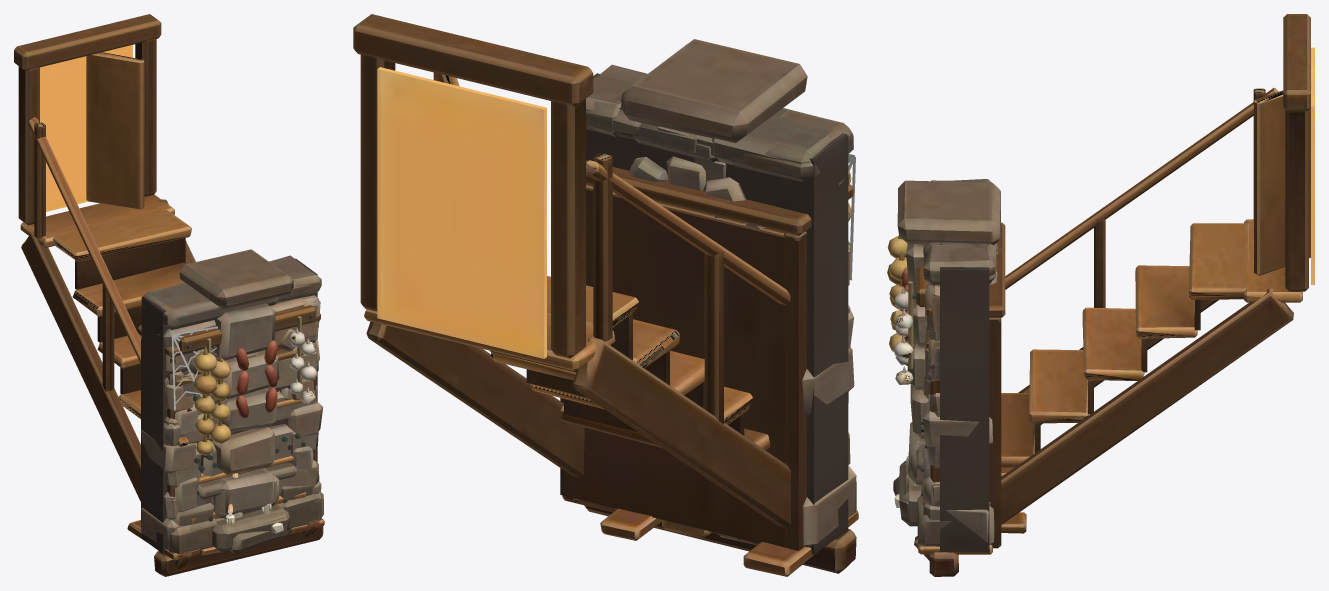
Rendered from env-cellar.low.glb.
3 renders of one model, left to right at view 1: azimuth 30°, elevation 25°; view 2: azimuth 150°, elevation 25°; view 3: azimuth 270°, elevation 25°, orthographic. The views are drawn at different scales.
Parts seen in each view (by area): view 1: stairs, stone-pillar, stone-arch, stone-doorway, stone-wall, hanging-food, floor-edge, stone-pillar-low, wine-rack, candles, stone-wall-low, shelf (+1 smaller); view 2: stairs, wine-rack, stone-arch, stone-pillar, stone-doorway, stone-wall, floor-edge; view 3: stairs, stone-doorway, stone-pillar, wine-rack, hanging-food, stone-arch, stone-wall, floor-edge, stone-pillar-low.
Boxes of the visible parts, box(x1,y1,x2,y2) form: stairs: box(14, 14, 319, 568); stone-pillar: box(179, 249, 293, 552); stone-arch: box(141, 255, 320, 554); stone-doorway: box(141, 261, 322, 553); stone-wall: box(142, 258, 323, 553); hanging-food: box(179, 305, 317, 455); floor-edge: box(127, 518, 324, 576); stone-pillar-low: box(213, 475, 289, 552); wine-rack: box(137, 312, 320, 525); candles: box(225, 473, 283, 553); stone-wall-low: box(171, 485, 314, 526); shelf: box(176, 349, 303, 483); stairs: box(353, 14, 791, 528); wine-rack: box(560, 160, 853, 550); stone-arch: box(586, 74, 853, 554); stone-pillar: box(621, 39, 807, 539); stone-doorway: box(586, 64, 856, 547); stone-wall: box(586, 73, 856, 516); floor-edge: box(562, 496, 858, 576); stairs: box(914, 14, 1314, 560); stone-doorway: box(923, 179, 997, 551); stone-pillar: box(897, 180, 1000, 526); wine-rack: box(921, 222, 1005, 548); hanging-food: box(887, 235, 927, 384); stone-arch: box(916, 243, 996, 546); stone-wall: box(918, 180, 996, 545); floor-edge: box(918, 467, 1026, 576); stone-pillar-low: box(899, 450, 924, 526).
Size of the model in its own units: 1.11 by 2.71 by 2.17.
Materials: 2 (2 with a texture image).
